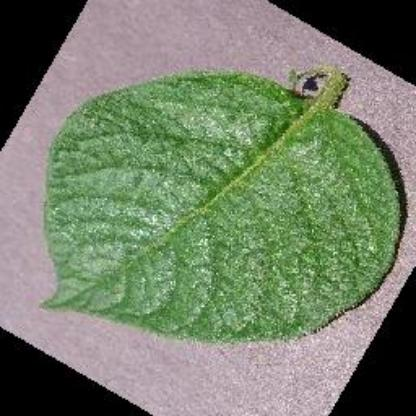Healthy-plant: (36, 62, 404, 346)
